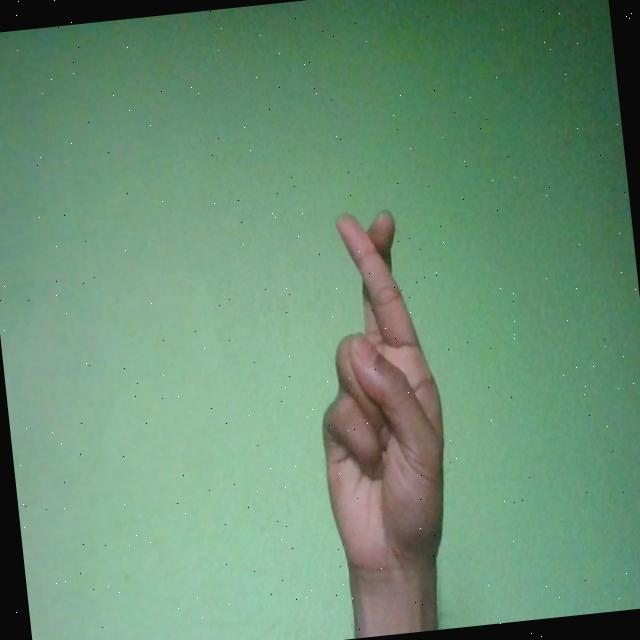Ok: (297, 204, 458, 586)
